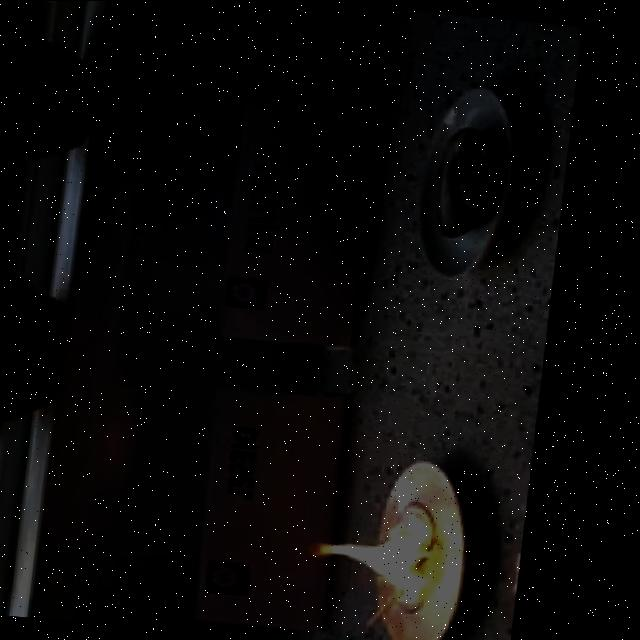Smoke: (292, 495, 446, 605)
